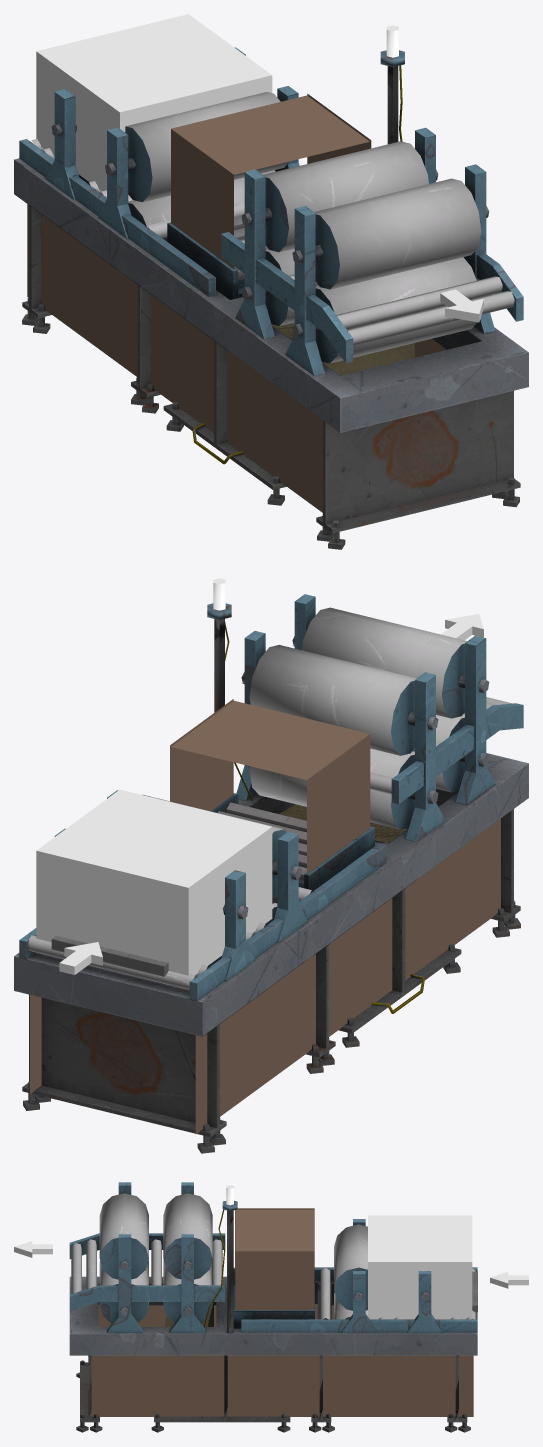
Rendered from RollingMill.glb.
3 renders of one model, top to bottom at view 1: azimuth 30°, elevation 25°; view 2: azimuth 150°, elevation 25°; view 3: azimuth 270°, elevation 25°, orthographic. The views are drawn at different scales.
Visible parts, largest first — view 1: RollingMill, MachineTrigger, t1rollingmachine_piston, ghostarrow; view 2: RollingMill, MachineTrigger, t1rollingmachine_piston, ghostarrow (1), PolishedPlateRenderer, ghostarrow, UnpolishedPlateRenderer; view 3: RollingMill, MachineTrigger, t1rollingmachine_piston, ghostarrow, ghostarrow (1).
Boxes of the visible parts, <box> form: RollingMill: <box>14,25,528,549</box>; MachineTrigger: <box>36,14,272,201</box>; t1rollingmachine_piston: <box>167,93,371,299</box>; ghostarrow: <box>440,289,483,322</box>; RollingMill: <box>14,578,528,1153</box>; MachineTrigger: <box>36,789,272,975</box>; t1rollingmachine_piston: <box>170,699,374,893</box>; ghostarrow (1): <box>59,942,102,974</box>; PolishedPlateRenderer: <box>51,939,168,976</box>; ghostarrow: <box>441,614,483,640</box>; UnpolishedPlateRenderer: <box>52,935,168,976</box>; RollingMill: <box>69,1182,477,1432</box>; MachineTrigger: <box>368,1215,472,1319</box>; t1rollingmachine_piston: <box>233,1208,314,1328</box>; ghostarrow: <box>14,1241,52,1257</box>; ghostarrow (1): <box>490,1272,528,1288</box>.
Size of the model in its own units: 1.05 by 1.97 by 3.79.
Materials: 8 (5 with a texture image).
